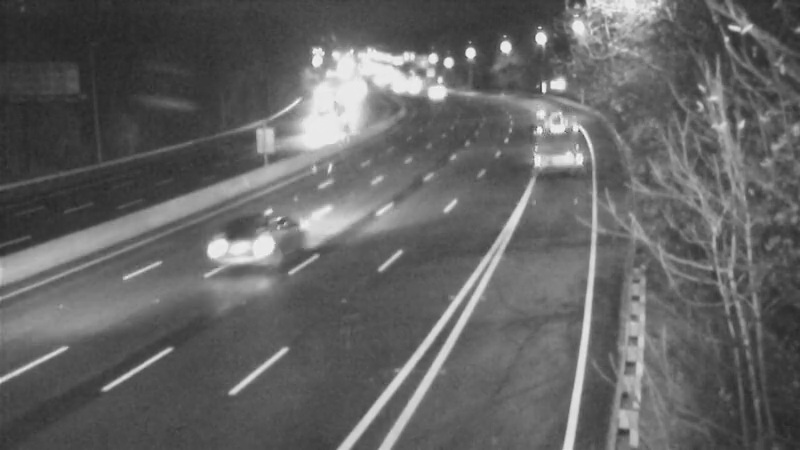vehicle: (195, 213, 275, 293), (408, 68, 458, 118), (529, 108, 579, 158), (295, 98, 345, 148)
